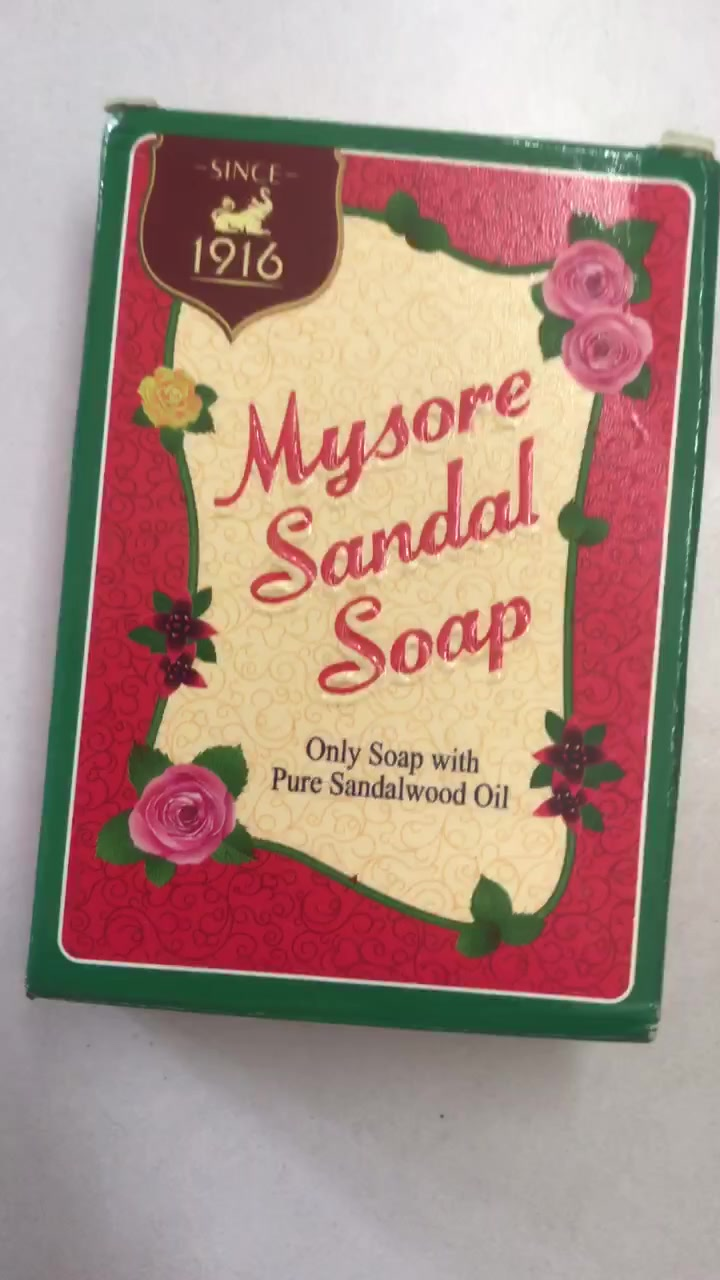mysore sandal soap: (58, 107, 701, 1027)
